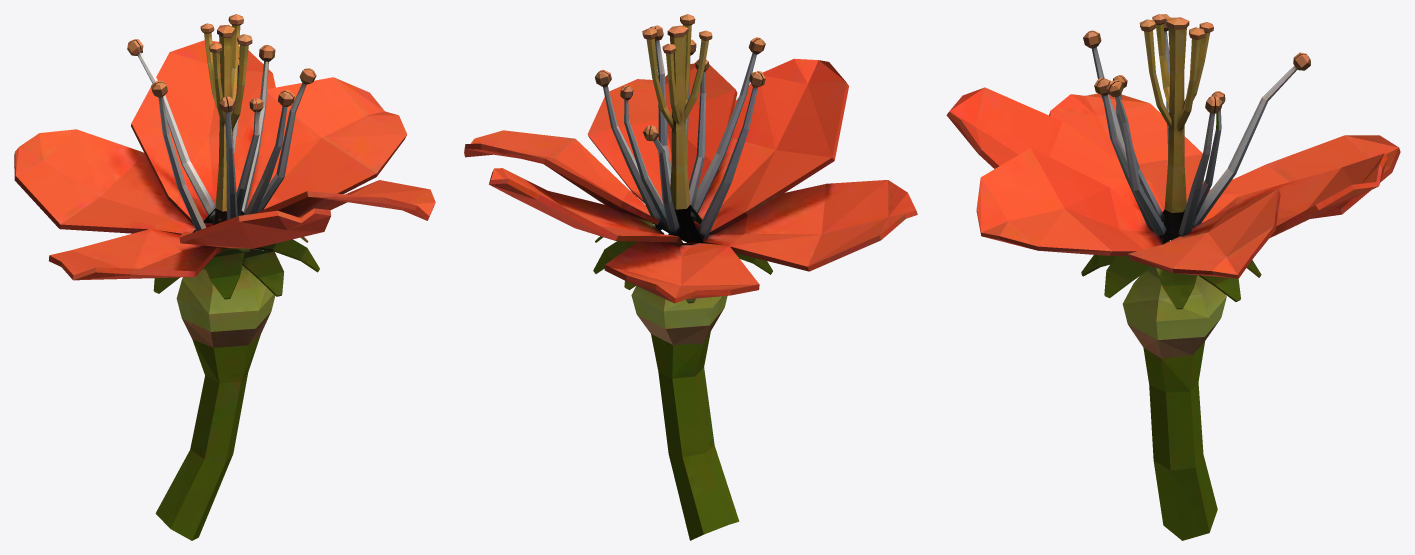
Rendered from flower0V.glb.
The picture shows the model from 3 angles, left to right: view 1: azimuth 30°, elevation 25°; view 2: azimuth 150°, elevation 25°; view 3: azimuth 270°, elevation 25°; orthographic projection. The views are drawn at different scales.
Parts seen in each view (by area): view 1: flower; view 2: flower; view 3: flower.
Part boxes in pixels (left/top/right/bottom): flower: left=14, top=14, right=435, bottom=540; flower: left=464, top=14, right=917, bottom=540; flower: left=946, top=14, right=1400, bottom=540.
Bounding box in the file's own units: 1.52 × 1.91 × 1.47.
Materials: 1 (1 with a texture image).
